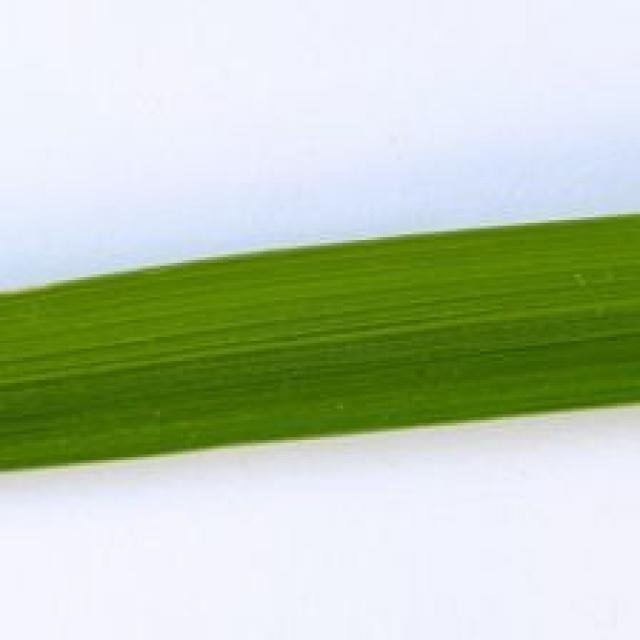Rice___Healthy_Rice_Plant: (0, 215, 637, 474)
